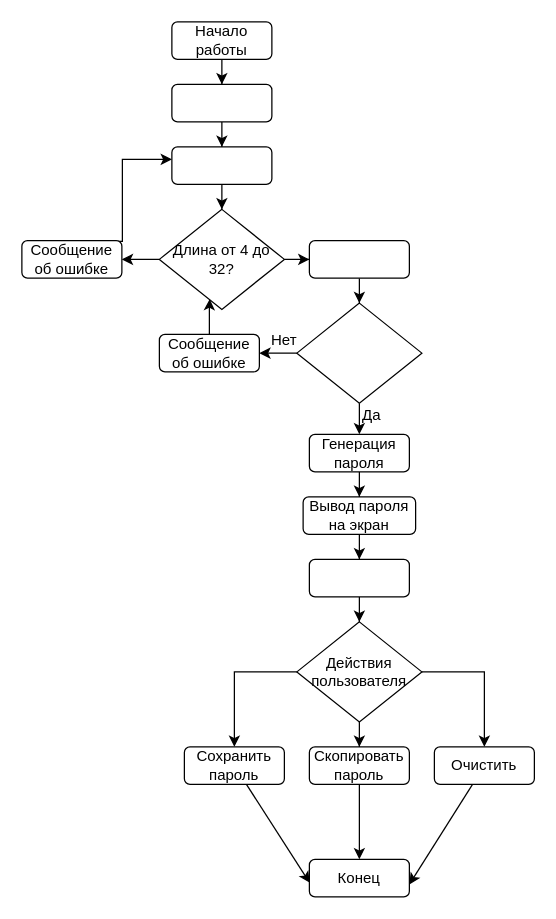
Image size: 556x919. Some labels were removed from this diagram. Here are the shapes that lost their labels. From the top down, the centre of each, then its label:
At (221,102): "Запуск программы".
At (221,165): "Ввод длины пароля".
At (358,258): "Выбор типов символов".
At (359,352): "Выбран хотя бы 1 тип?".
At (358,577): "Проверка надёжности".
